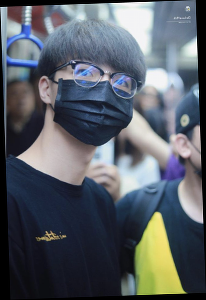with_mask: (48, 54, 135, 147)
